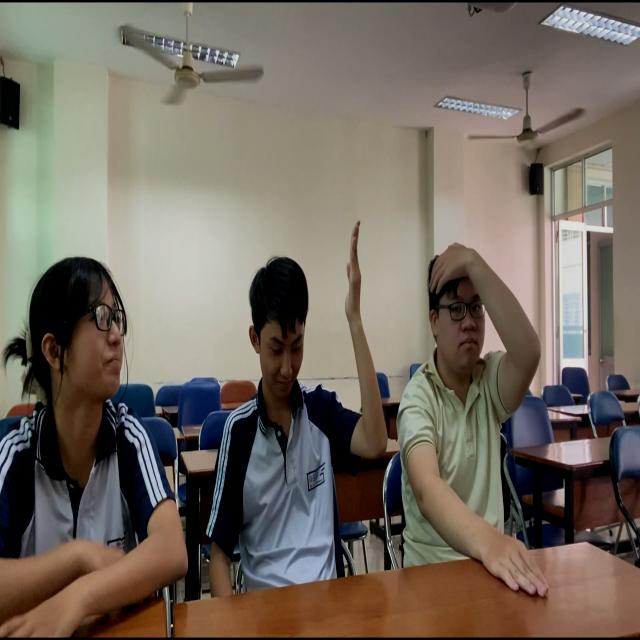raise_hand: (225, 209, 393, 575)
